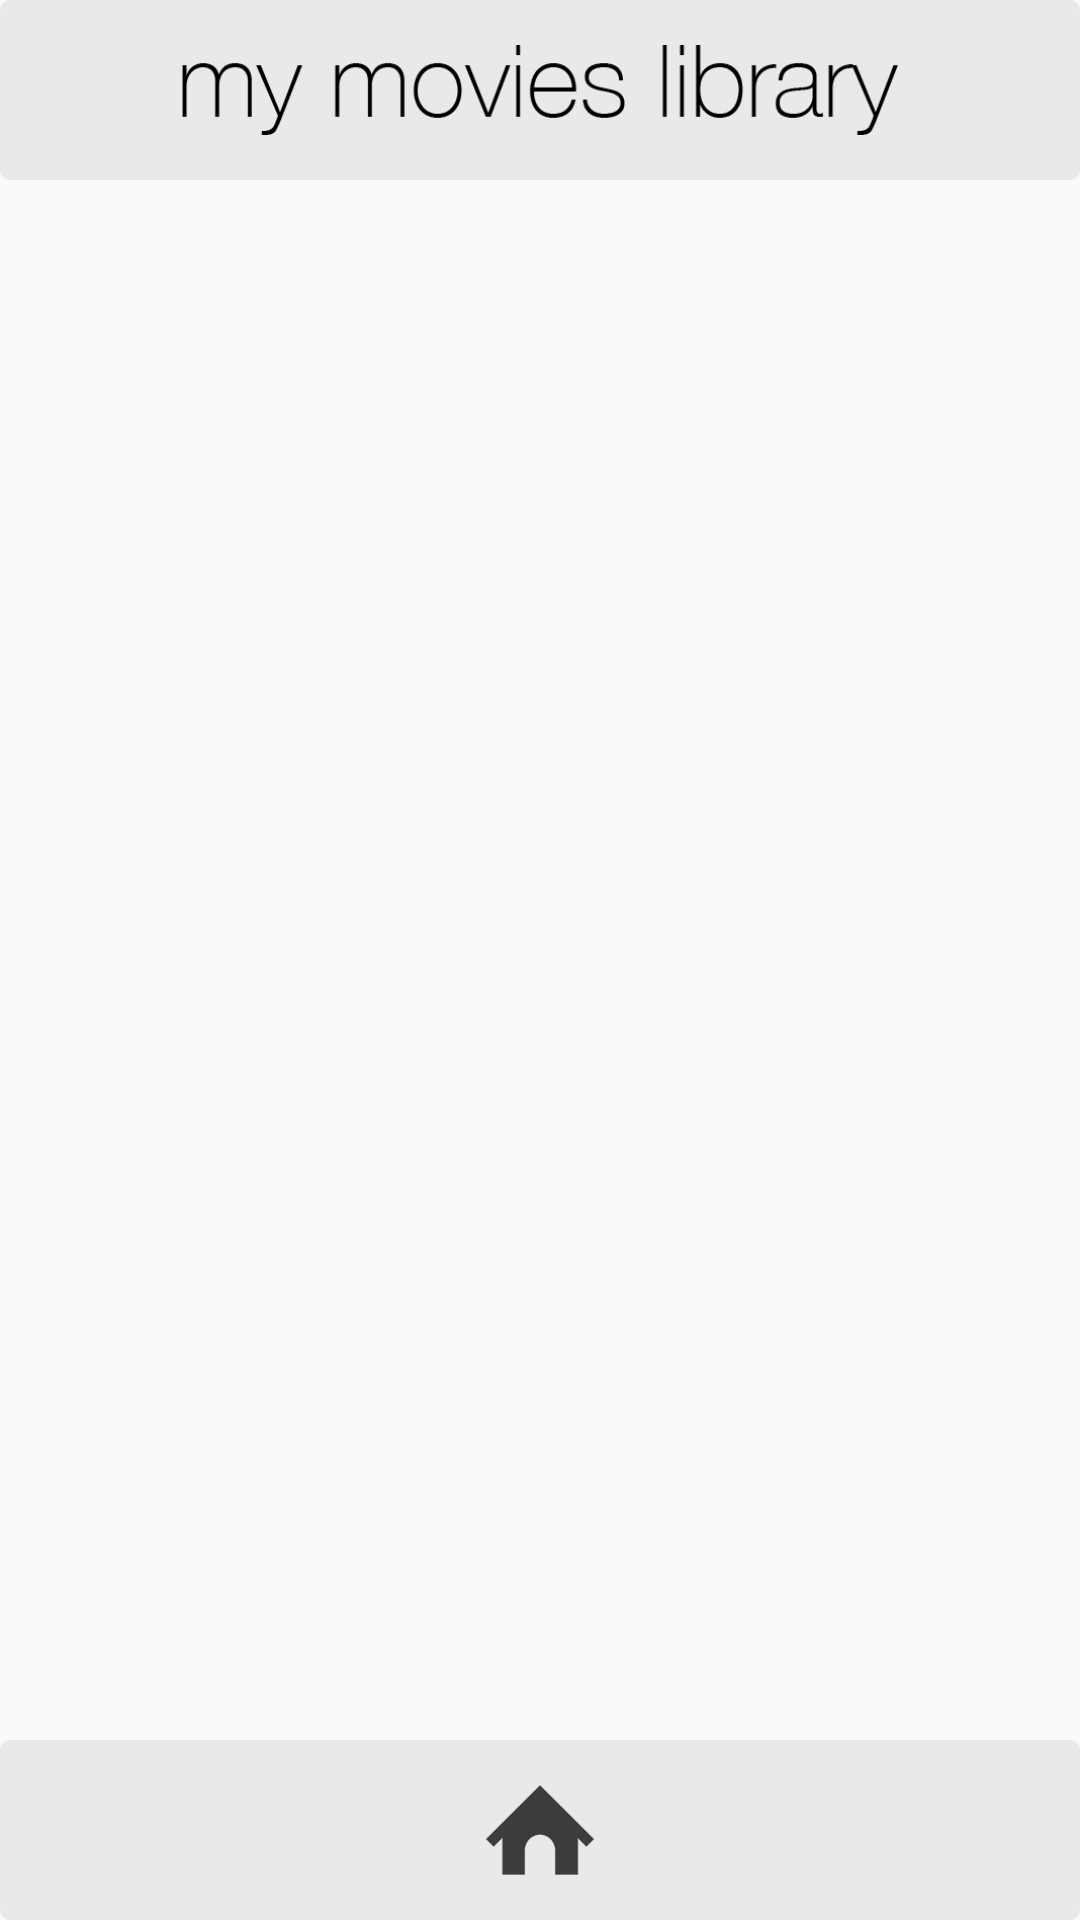

Point at icon controls on the screen. Image size 1080 × 1920, points as [x,y].
home: [540,1830]
